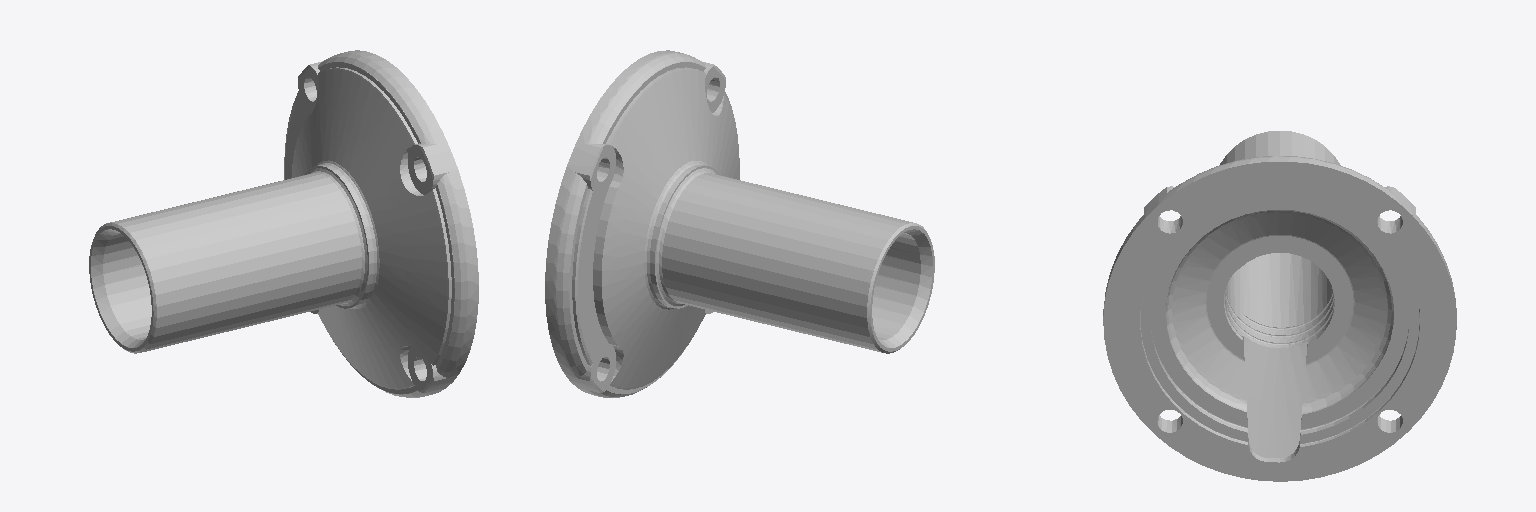
File: 73. Крышка подшипника.obj
The picture shows the model from 3 angles: view 1: azimuth 30°, elevation 25°; view 2: azimuth 150°, elevation 25°; view 3: azimuth 270°, elevation 25°; orthographic projection.
Visible parts, largest first — view 1: Твердое тело1; view 2: Твердое тело1; view 3: Твердое тело1.
Boxes of the visible parts, x1=… form: Твердое тело1: x1=89, y1=50, x2=478, y2=397; Твердое тело1: x1=545, y1=50, x2=934, y2=397; Твердое тело1: x1=1103, y1=131, x2=1456, y2=481.
Bounding box in the file's own units: 102 × 116 × 116.